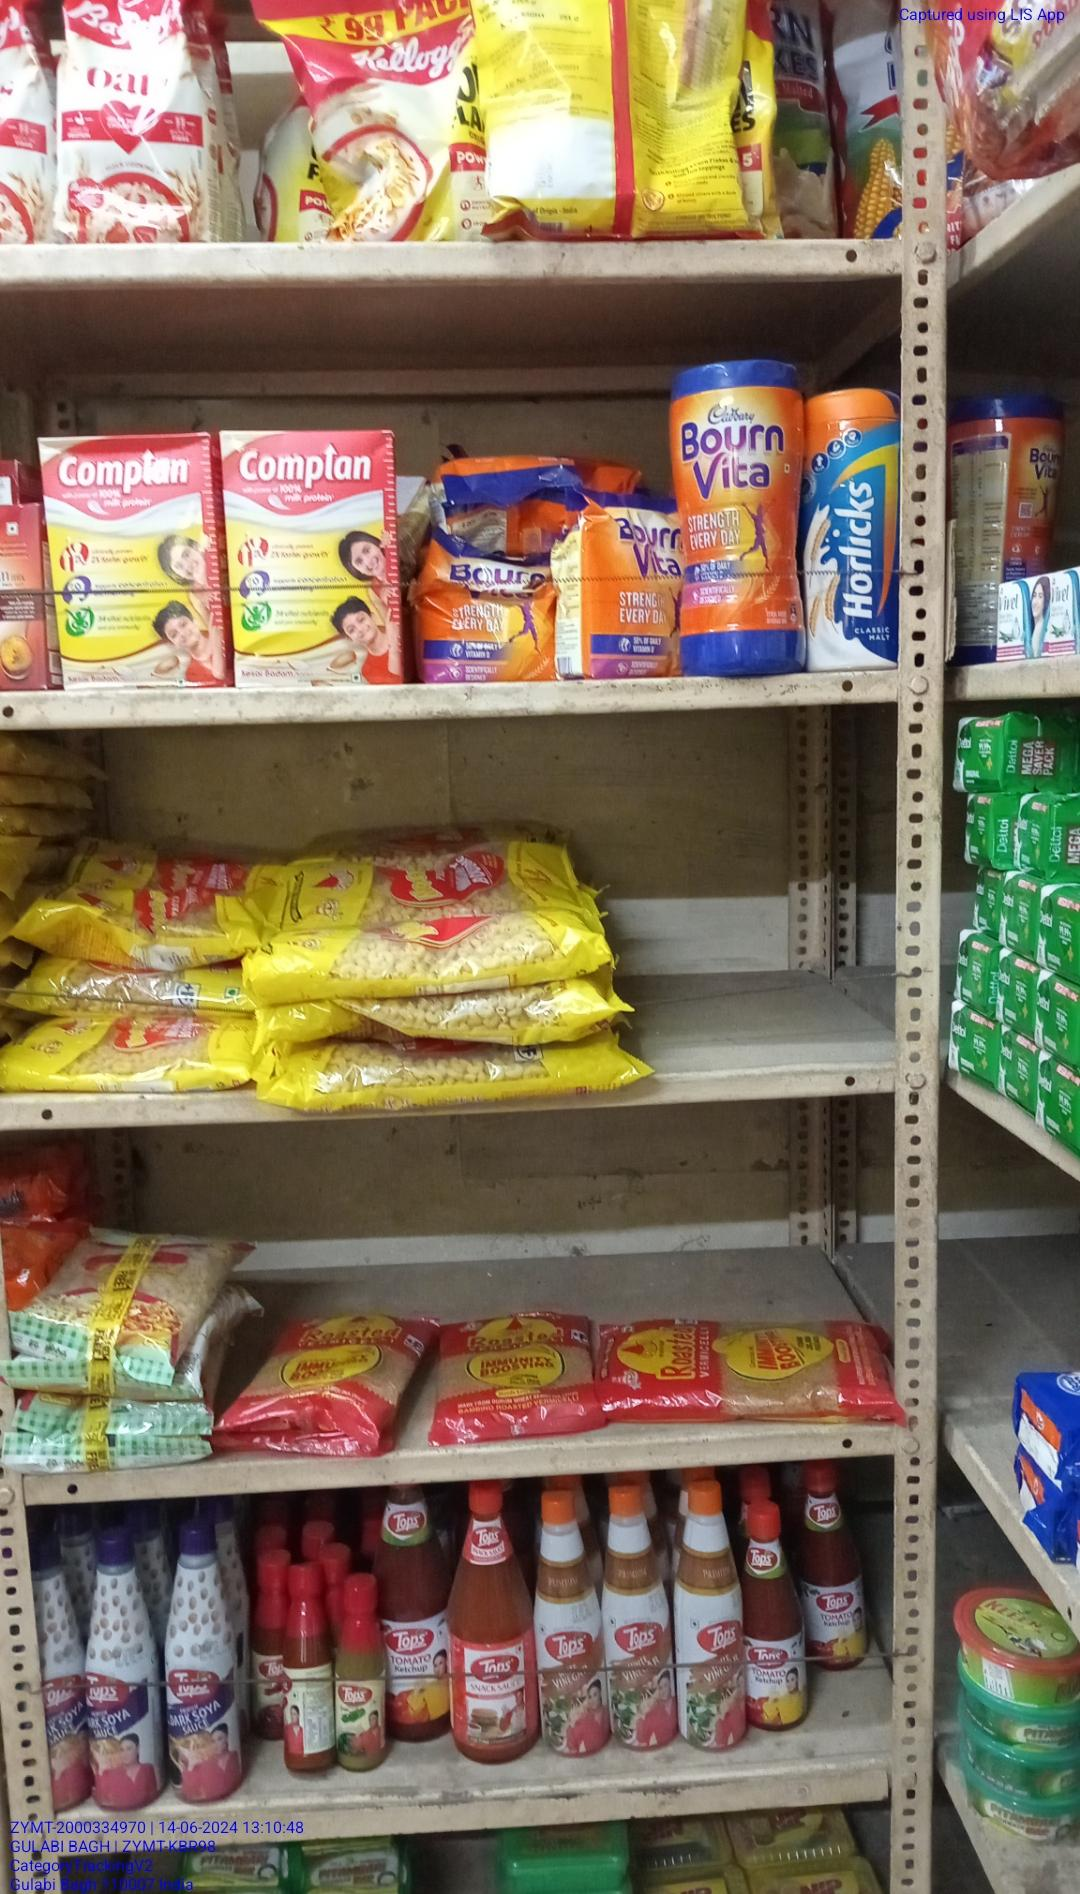BOURN_VITA_500_G_JAR: (668, 369, 795, 669)
COMPLAN_KESAR_BADAM_500_GMS_PACK: (228, 432, 401, 687), (46, 437, 217, 689)
HORLICK_CLASSIC_MALT_500_G_JAR: (802, 399, 899, 676)
